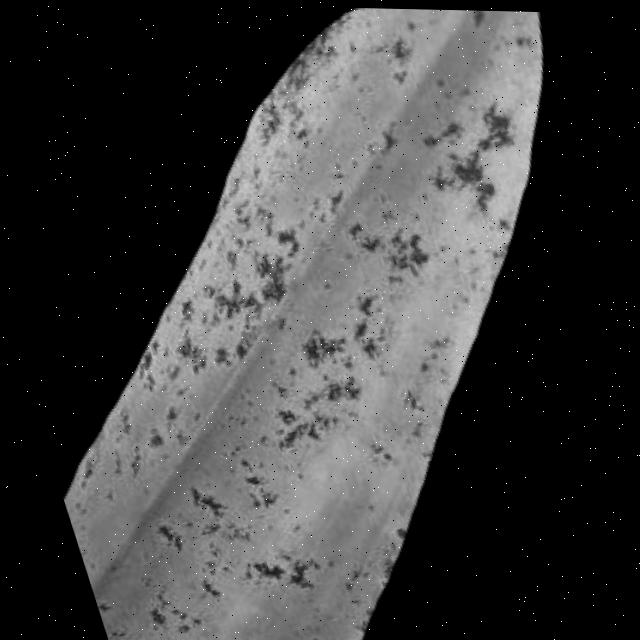mite: (447, 148, 488, 184), (146, 515, 183, 554), (385, 30, 415, 59), (468, 8, 492, 26)
spots: (3, 5, 640, 640)
